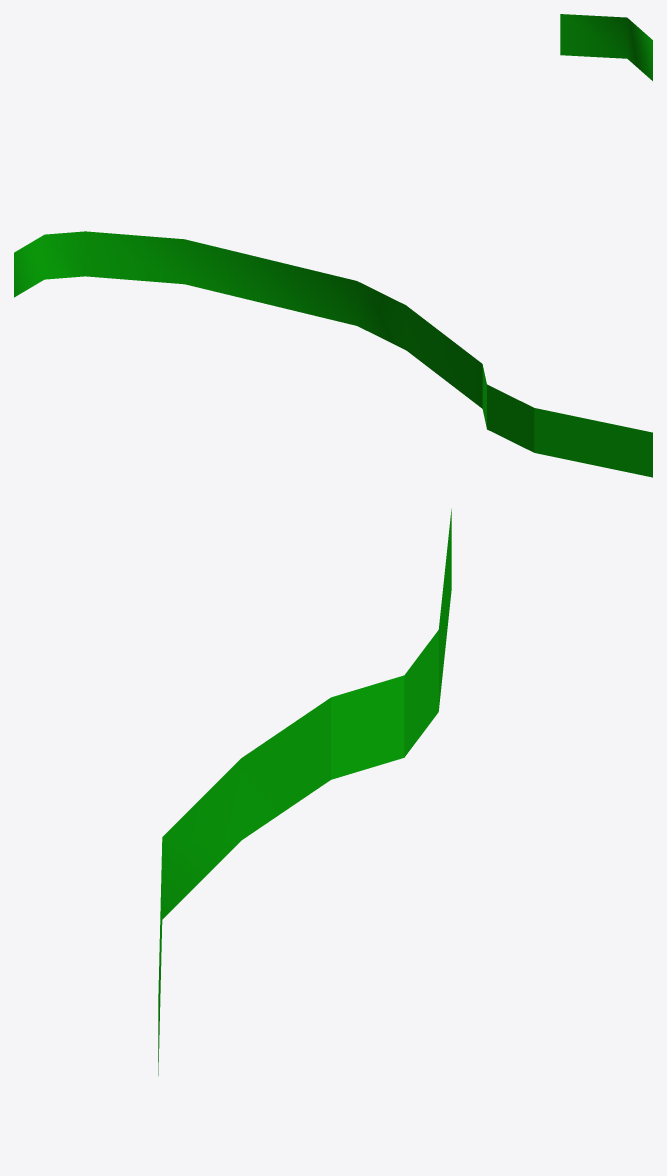
Rendered from M8_Idiot_Stopper_12.glb.
3 renders of one model, top to bottom at view 1: azimuth 30°, elevation 25°; view 2: azimuth 150°, elevation 25°; view 3: azimuth 270°, elevation 25°, orthographic. The views are drawn at different scales.
Parts seen in each view (by area): view 1: M8_IDIOT_STOPPER_12; view 2: M8_IDIOT_STOPPER_12; view 3: M8_IDIOT_STOPPER_12.
Boxes of the visible parts, box(x1,y1,x2,y2) form: M8_IDIOT_STOPPER_12: box(560, 14, 652, 80); M8_IDIOT_STOPPER_12: box(14, 231, 652, 477); M8_IDIOT_STOPPER_12: box(158, 509, 451, 1075).
Size of the model in its own units: 114 by 10.63 by 28.85.
